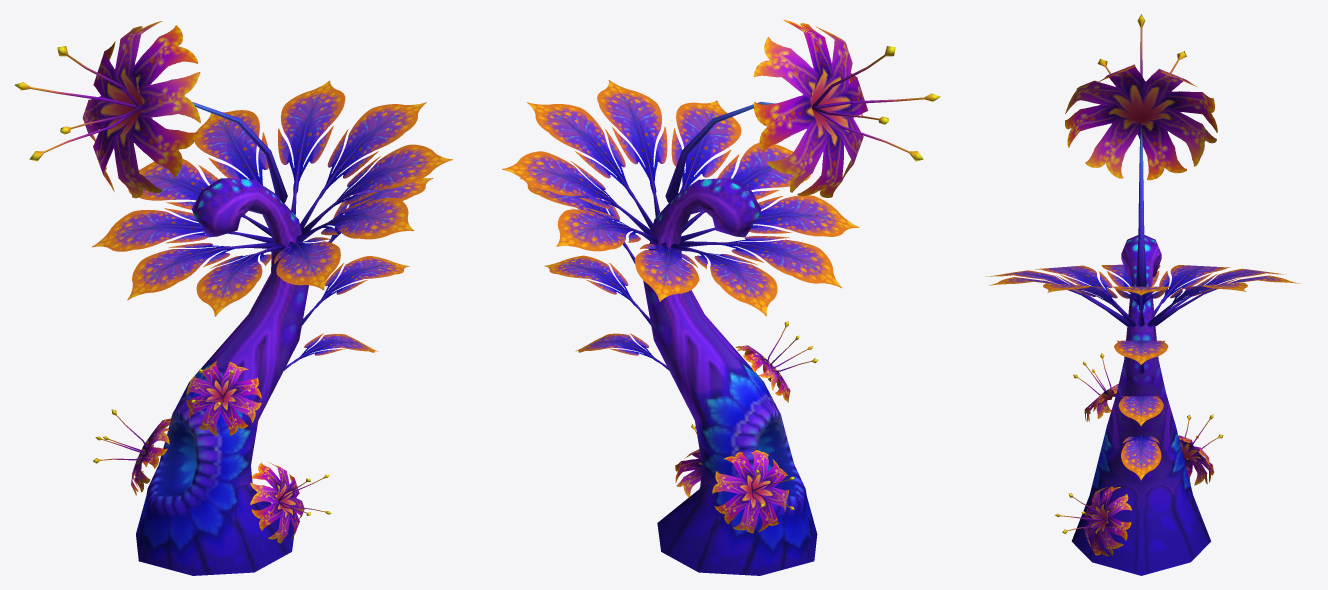
File: Blue_Tree_06b.FBX
3 renders of one model, left to right at view 1: azimuth 30°, elevation 25°; view 2: azimuth 150°, elevation 25°; view 3: azimuth 270°, elevation 25°, orthographic. The views are drawn at different scales.
Parts seen in each view (by area): view 1: Blue_Tree_06b; view 2: Blue_Tree_06b; view 3: Blue_Tree_06b.
Part boxes in pixels (bbox=[...]): Blue_Tree_06b: bbox=[14, 21, 452, 575]; Blue_Tree_06b: bbox=[502, 20, 940, 575]; Blue_Tree_06b: bbox=[986, 14, 1299, 575].
Bounding box in the file's own units: 332 × 416 × 280.
